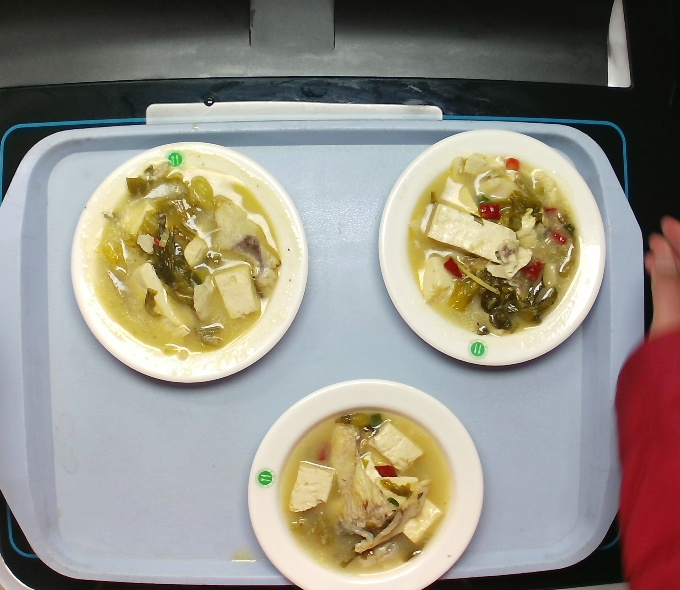wcq-SuanCaiDouFuYu: (81, 161, 296, 360), (398, 146, 595, 345), (268, 399, 458, 579)
